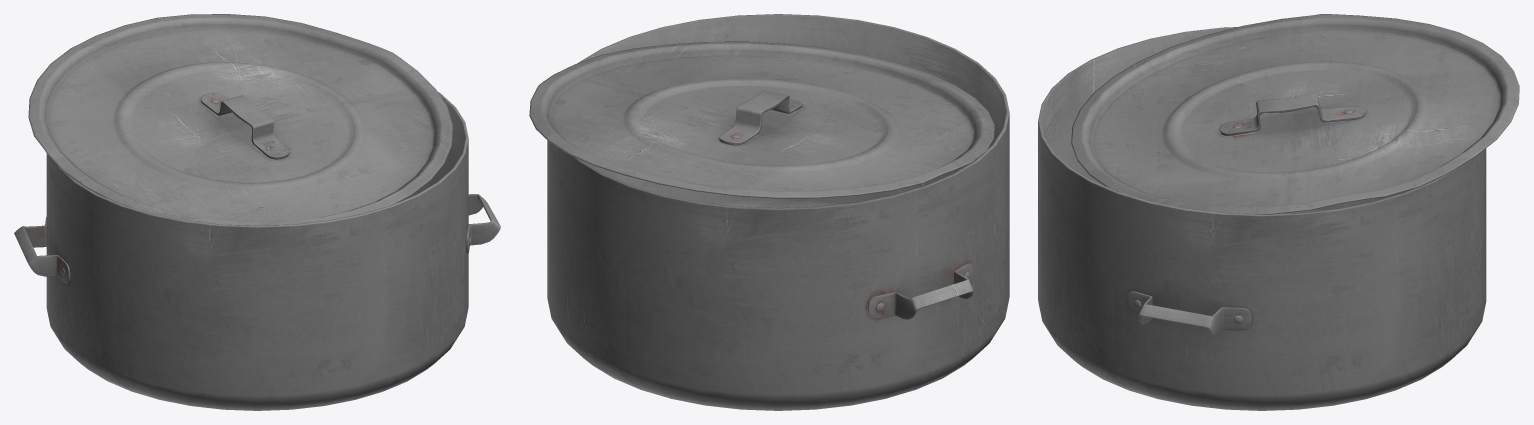
3 renders of one model, left to right at view 1: azimuth 30°, elevation 25°; view 2: azimuth 150°, elevation 25°; view 3: azimuth 270°, elevation 25°, orthographic. The views are drawn at different scales.
Visible parts, largest first — view 1: Pot; view 2: Pot; view 3: Pot.
Boxes of the visible parts, box(x1,y1,x2,y2) form: Pot: box(14, 14, 500, 410); Pot: box(529, 14, 1009, 410); Pot: box(1038, 14, 1519, 410).
Bounding box in the file's own units: 2.23 × 1.14 × 2.15.
Materials: 1 (1 with a texture image).
